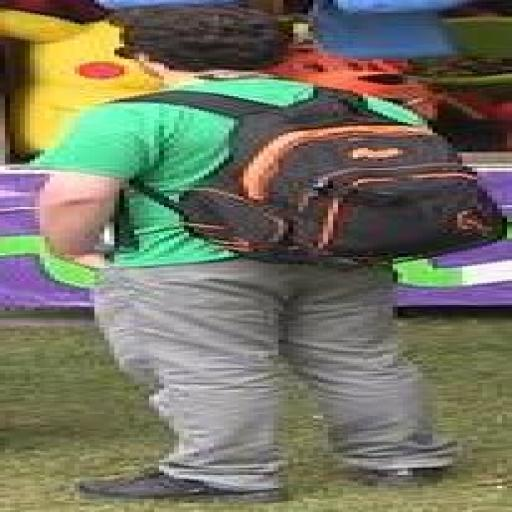person: (35, 100, 457, 502)
